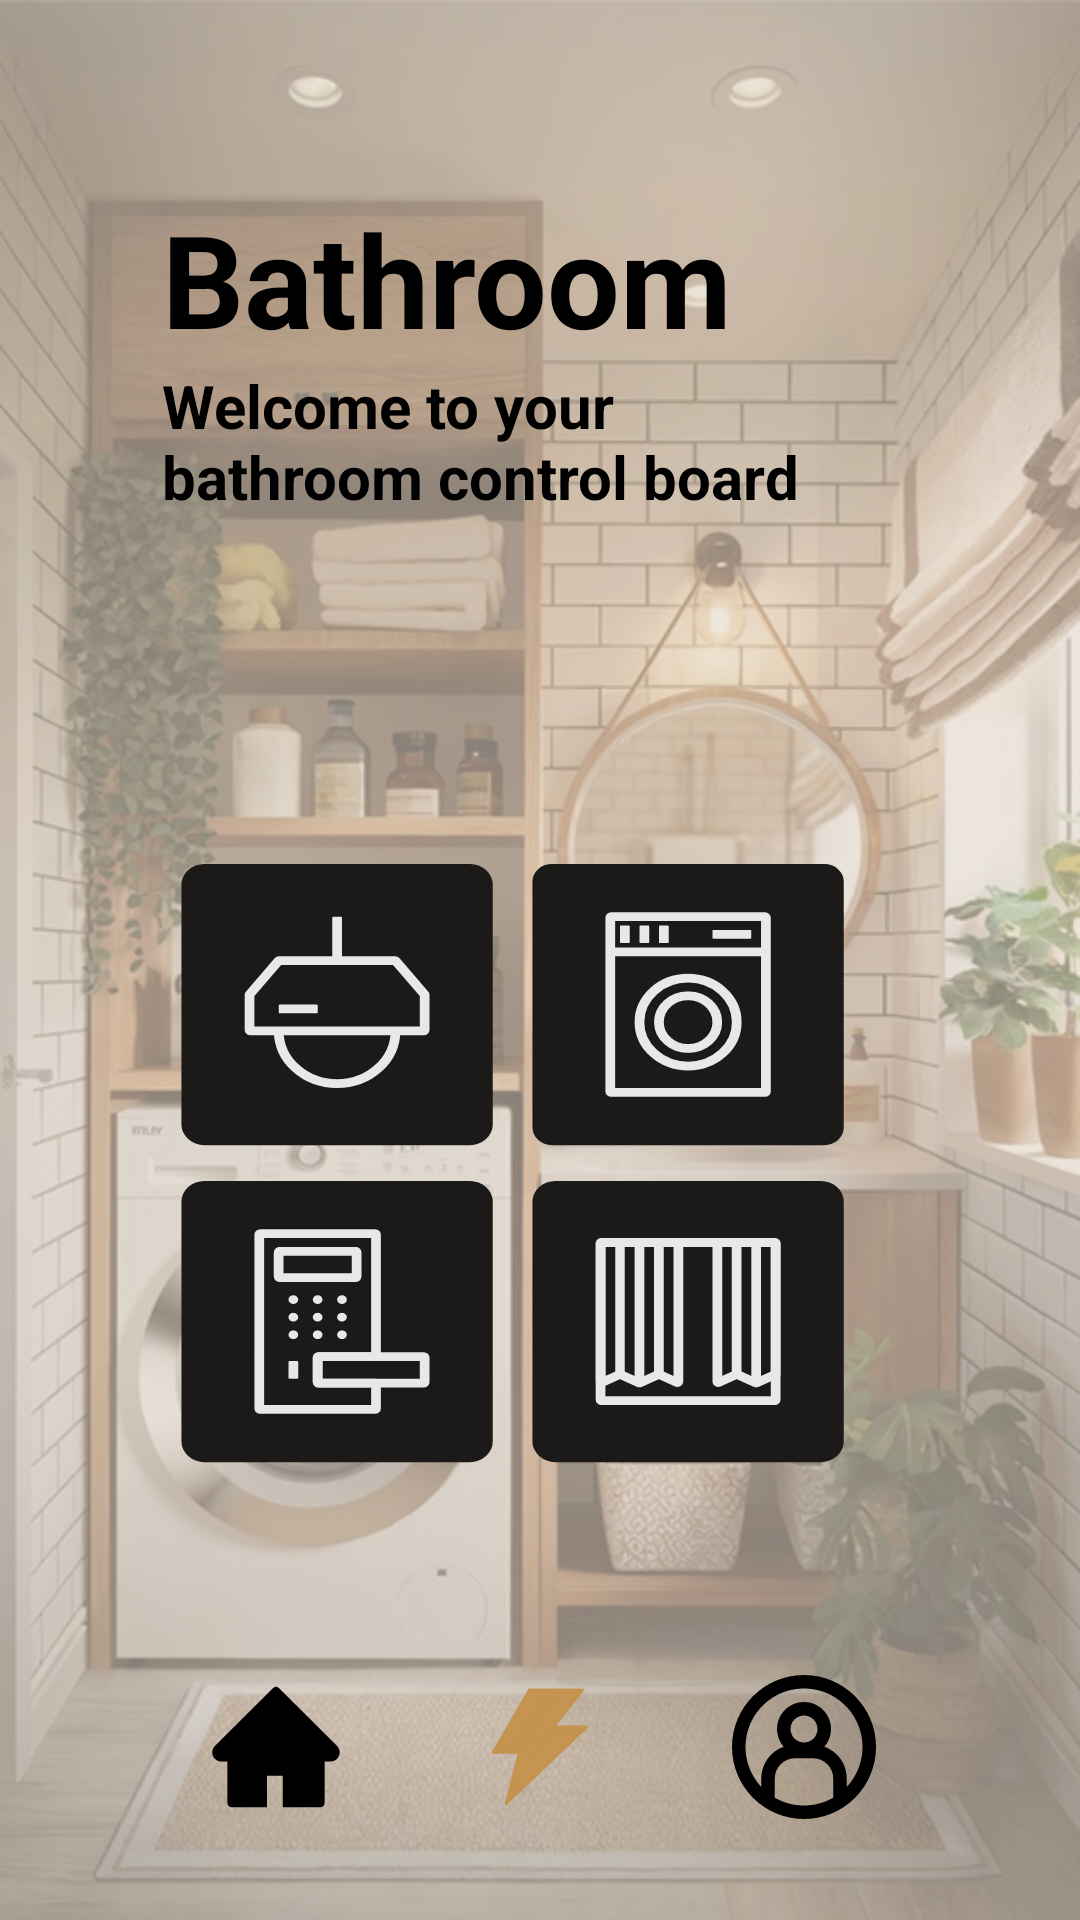

Icon click points for this 1080 x 1920 phone screenshot, format (x,y):
door: (337,1339)
homep: (276,1741)
light: (337,1022)
profilep: (804,1747)
wash machine: (688,1022)
window: (688,1339)
